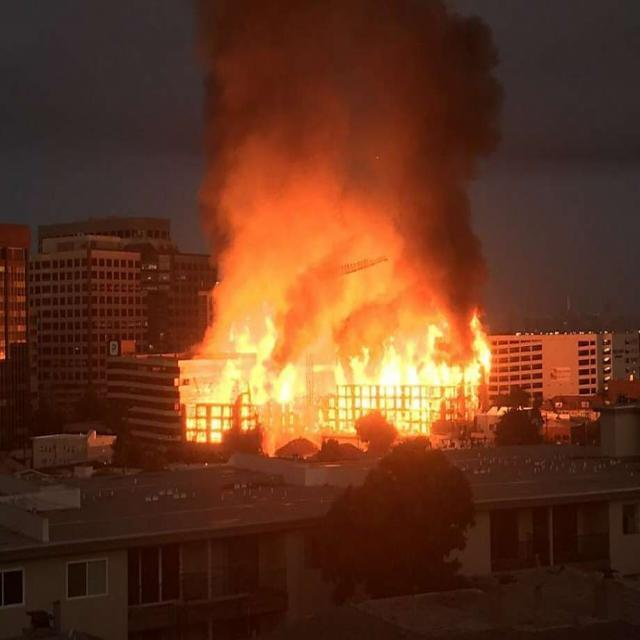Fire: (170, 288, 503, 462)
Smoke: (194, 3, 508, 284)
